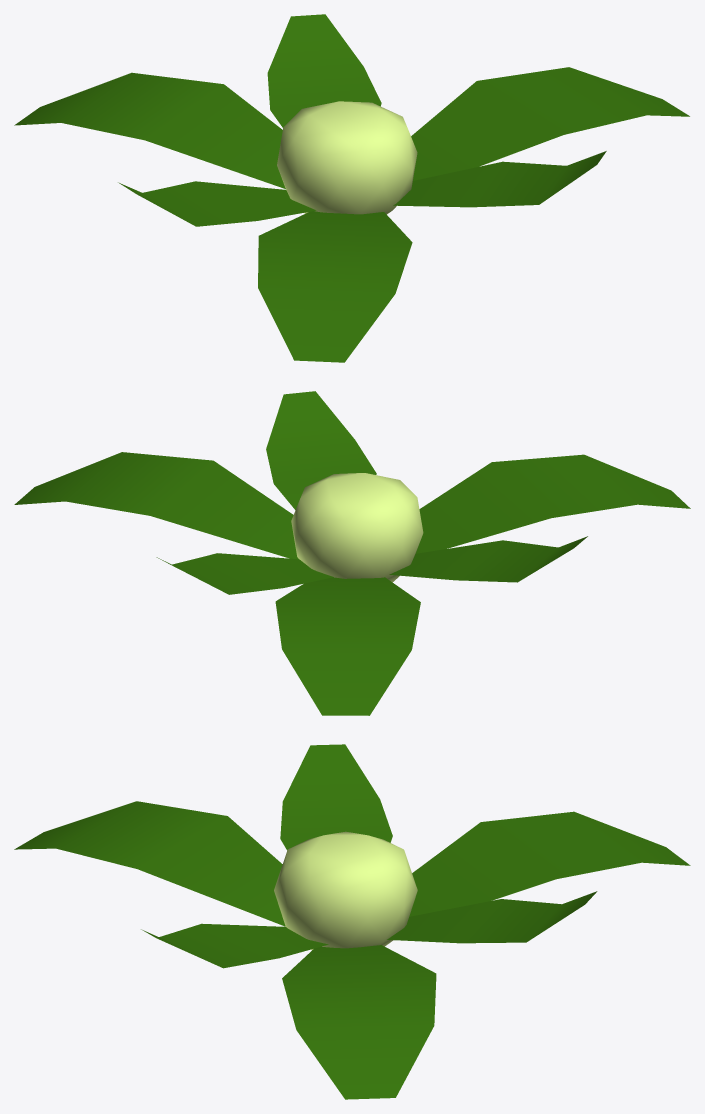
File: lily state 2.fbx
The picture shows the model from 3 angles, top to bottom: view 1: azimuth 30°, elevation 25°; view 2: azimuth 150°, elevation 25°; view 3: azimuth 270°, elevation 25°; orthographic projection. The views are drawn at different scales.
Parts seen in each view (by area): view 1: berry state 2; view 2: berry state 2; view 3: berry state 2.
Part boxes in pixels (bbox=[...]): berry state 2: bbox=[14, 14, 689, 362]; berry state 2: bbox=[14, 391, 690, 715]; berry state 2: bbox=[14, 744, 690, 1099].
Size of the model in its own units: 60.23 by 10.76 by 61.48.
